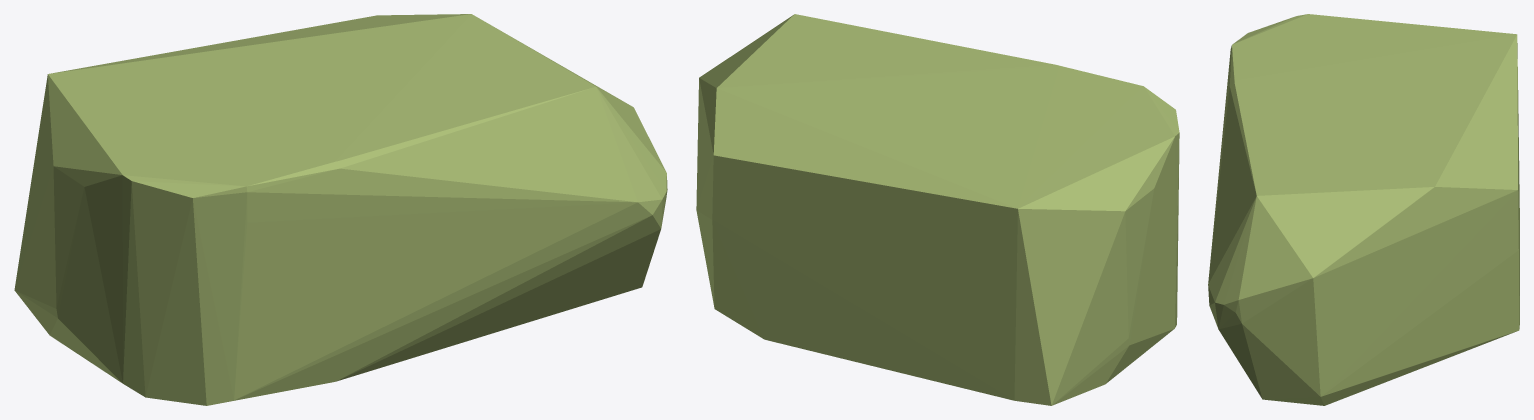
File: interiorPart_armrest_assembly_d01.glb
3 renders of one model, left to right at view 1: azimuth 30°, elevation 25°; view 2: azimuth 150°, elevation 25°; view 3: azimuth 270°, elevation 25°, orthographic. The views are drawn at different scales.
Parts seen in each view (by area): view 1: geometry_0; view 2: geometry_0; view 3: geometry_0.
Part boxes in pixels (x1,y1,x2,y2): geometry_0: [14, 14, 667, 405]; geometry_0: [696, 14, 1179, 405]; geometry_0: [1208, 14, 1519, 405].
Bounding box in the file's own units: 0.4799 × 0.193 × 0.2918.
